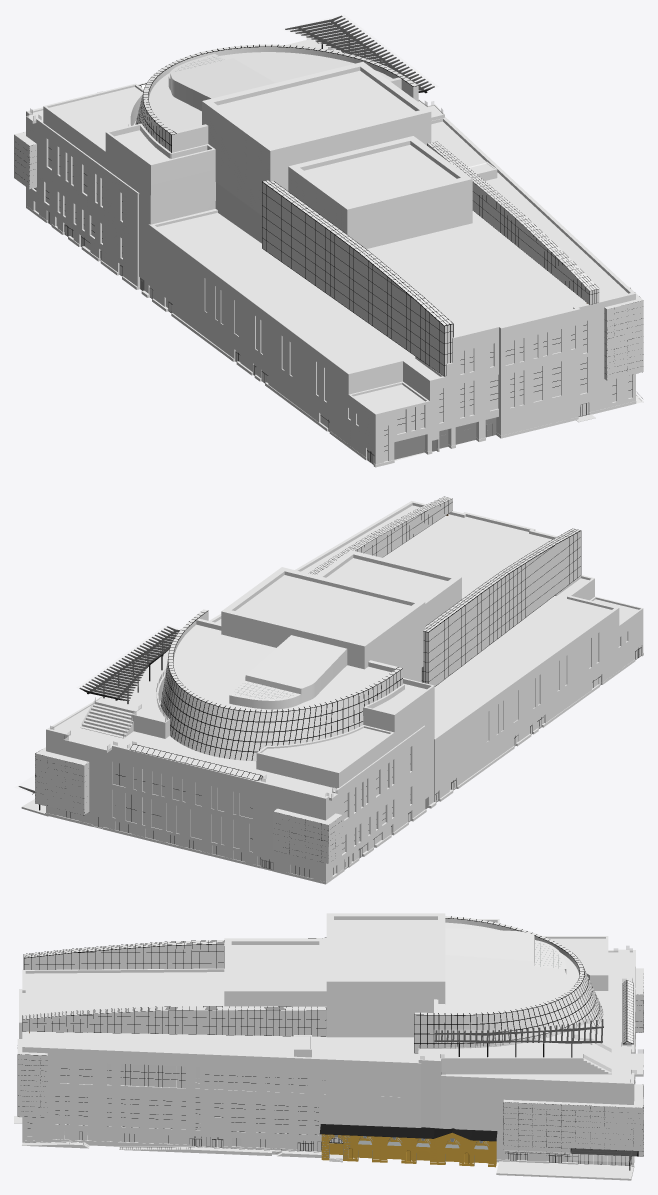
File: СНТ.glb
The picture shows the model from 3 angles, top to bottom: view 1: azimuth 30°, elevation 25°; view 2: azimuth 150°, elevation 25°; view 3: azimuth 270°, elevation 25°; orthographic projection. The views are drawn at different scales.
Parts seen in each view (by area): view 1: Cube.054, Cube.064, Cube.057, Cube.063, Cube.058, Cube.062, windows_roof, Cube.061, Circle.001, Plane, Cube.048, Plane.001 (+9 smaller); view 2: Cube.054, Cube.064, windows_roof, Cube.057, Cube.058, Cube.062, Circle.001, Cube.063, Plane.004, windows_roof2, Cube.060, Cube.067 (+11 smaller); view 3: Cube.054, Cube.057, windows_roof, Cube.069, Cube.061, Cube.067, Cube.063, Cube.055, Cube.058, Cube.056, Circle.001, Plane (+18 smaller).
Boxes of the visible parts, left/top/right/bottom form: Cube.054: left=26, top=37, right=635, bottom=445; Cube.064: left=148, top=209, right=452, bottom=464; Cube.057: left=202, top=62, right=431, bottom=215; Cube.063: left=288, top=136, right=472, bottom=248; Cube.058: left=262, top=180, right=452, bottom=375; Cube.062: left=43, top=83, right=215, bottom=293; windows_roof: left=135, top=44, right=418, bottom=152; Cube.061: left=427, top=141, right=599, bottom=304; Circle.001: left=168, top=54, right=274, bottom=111; Plane: left=282, top=15, right=438, bottom=90; Cube.048: left=604, top=287, right=643, bottom=380; Plane.001: left=285, top=15, right=434, bottom=92; Cube.054: left=46, top=501, right=557, bottom=881; Cube.064: left=434, top=575, right=643, bottom=801; windows_roof: left=160, top=609, right=402, bottom=761; Cube.057: left=221, top=567, right=425, bottom=678; Cube.058: left=421, top=528, right=580, bottom=686; Cube.062: left=256, top=678, right=434, bottom=805; Circle.001: left=229, top=635, right=347, bottom=709; Cube.063: left=316, top=550, right=461, bottom=625; Plane.004: left=112, top=762, right=252, bottom=851; windows_roof2: left=161, top=610, right=402, bottom=760; Cube.060: left=273, top=808, right=342, bottom=863; Cube.067: left=35, top=747, right=89, bottom=814; Cube.054: left=19, top=949, right=643, bottom=1165; Cube.057: left=326, top=913, right=445, bottom=1037; windows_roof: left=414, top=916, right=603, bottom=1052; Cube.069: left=27, top=1061, right=404, bottom=1151; Cube.061: left=22, top=1006, right=326, bottom=1036; Cube.067: left=503, top=1084, right=643, bottom=1156; Cube.063: left=224, top=938, right=326, bottom=1006; Cube.055: left=418, top=1023, right=592, bottom=1128; Cube.058: left=24, top=938, right=326, bottom=969; Cube.056: left=321, top=1132, right=496, bottom=1167; Circle.001: left=445, top=928, right=566, bottom=973; Plane: left=433, top=1018, right=603, bottom=1043.
Size of the model in its own units: 10.6 by 4.88 by 18.57.
